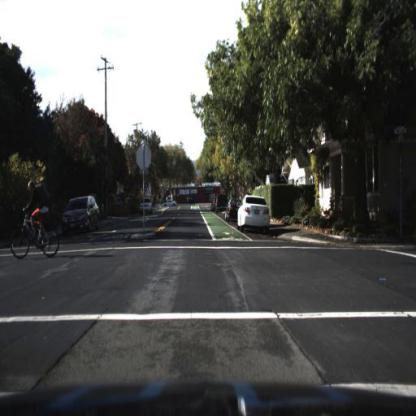biker: (11, 180, 62, 262)
car: (61, 196, 100, 237), (236, 194, 272, 232), (226, 196, 238, 224), (138, 194, 153, 214), (139, 194, 154, 214), (217, 195, 226, 216)
